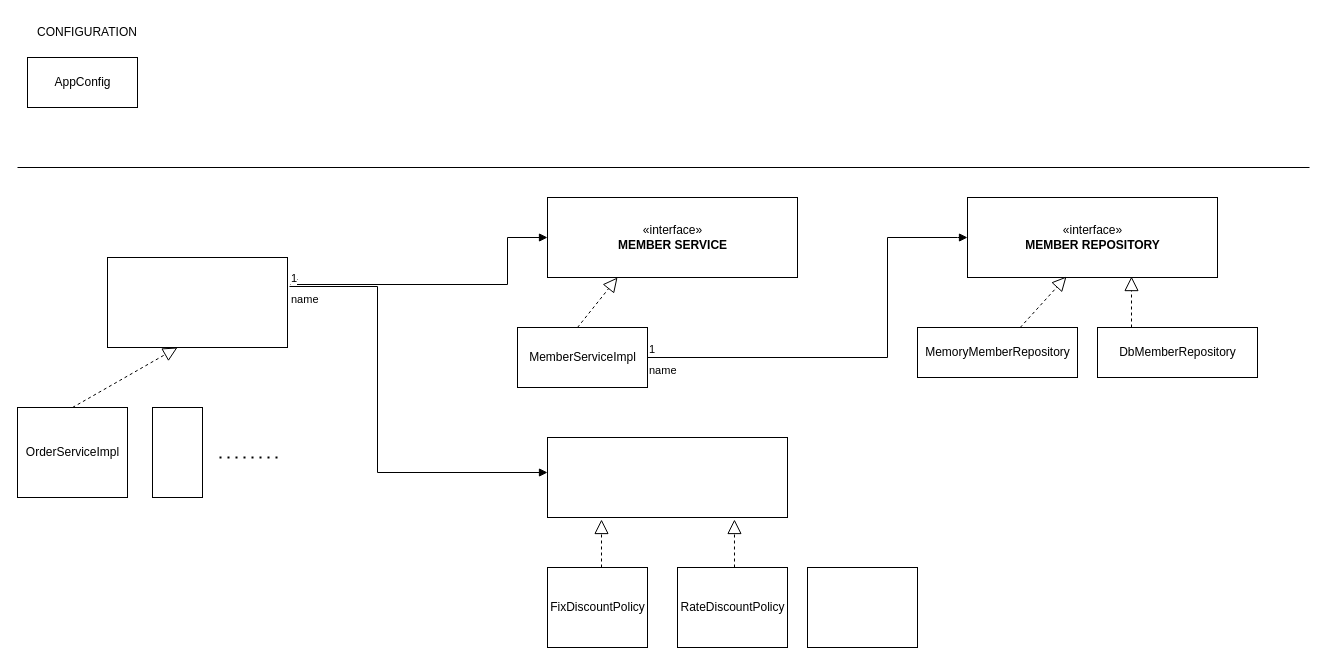
The diagram is 1328 pixels wide and 665 high, and some of its shapes have lost their labels. Each missing label, with the box of its shape:
Others..: (152, 406, 202, 498)
Others....: (806, 566, 918, 648)
«interface» DISCOUNT POLICY: (546, 436, 788, 518)
«interface» ORDER SERVICE: (106, 256, 288, 348)
